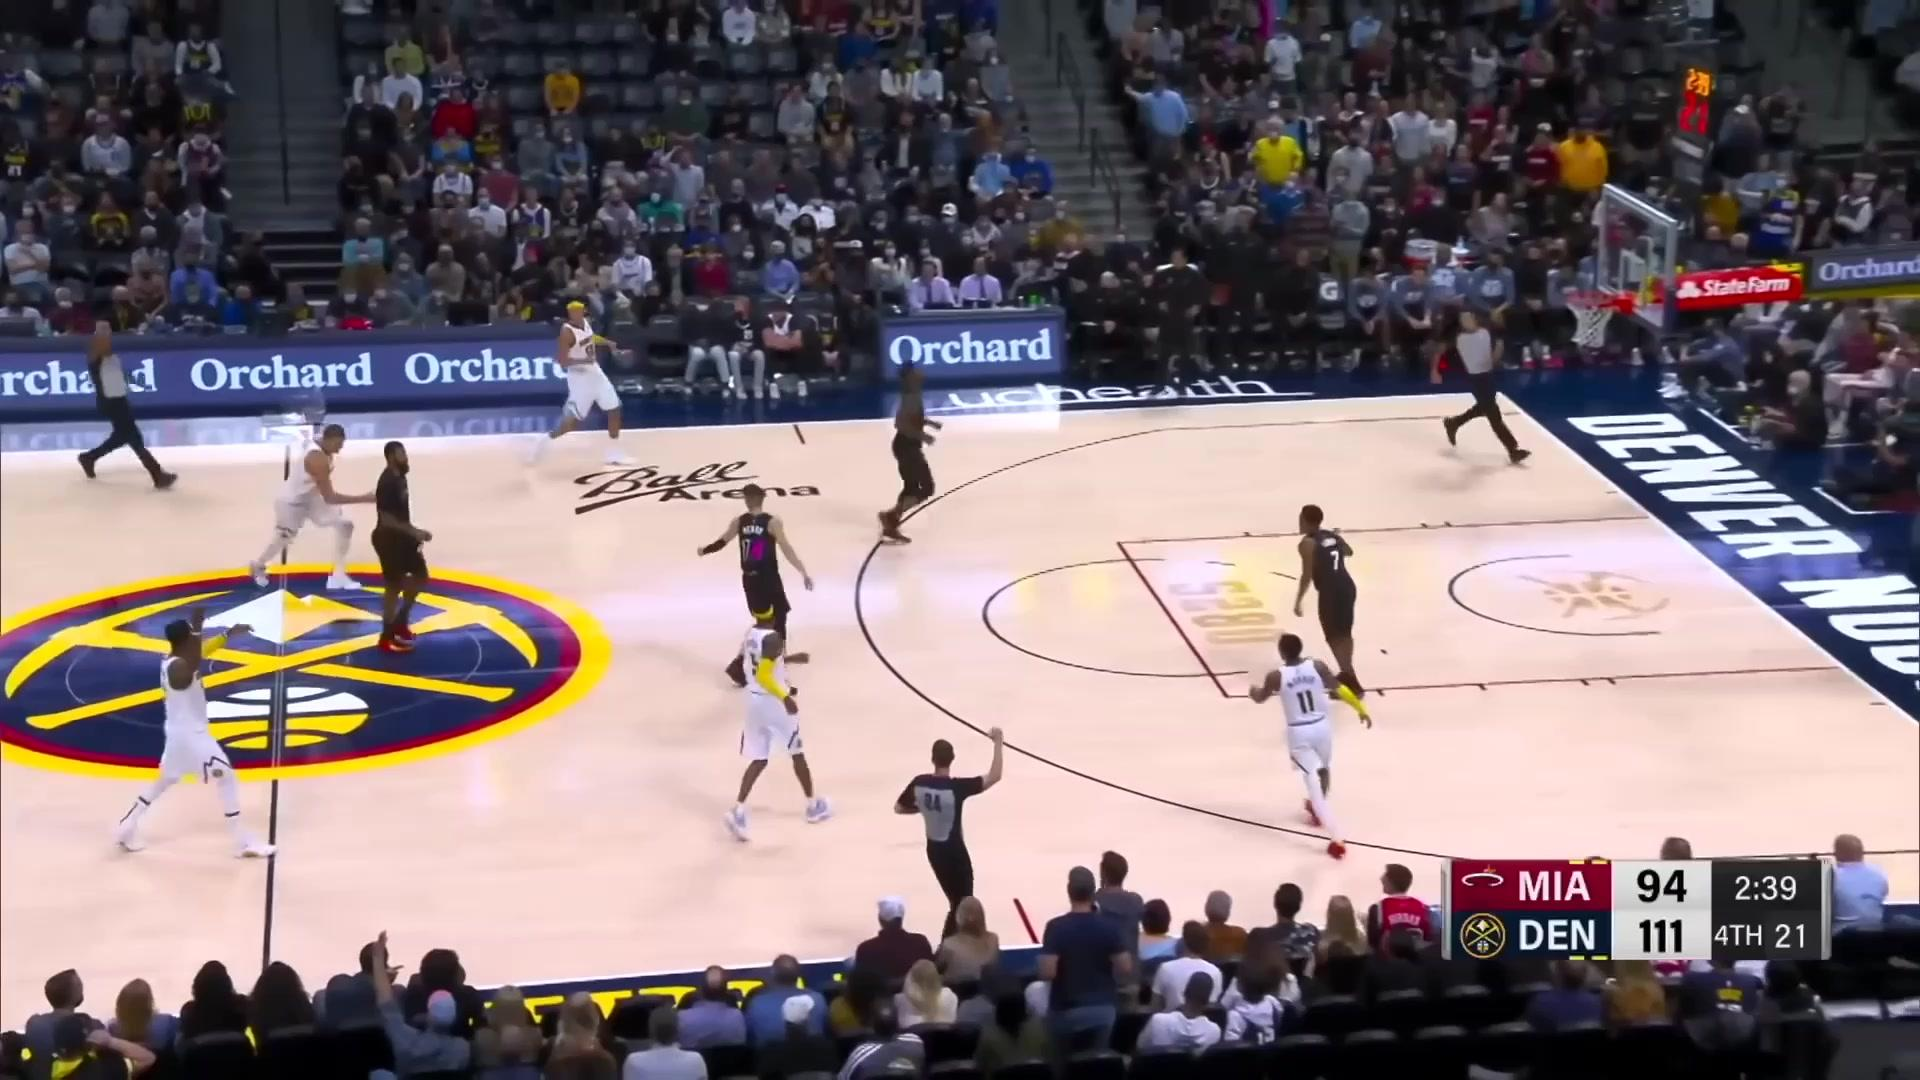no_foul: (249, 377, 462, 652)
